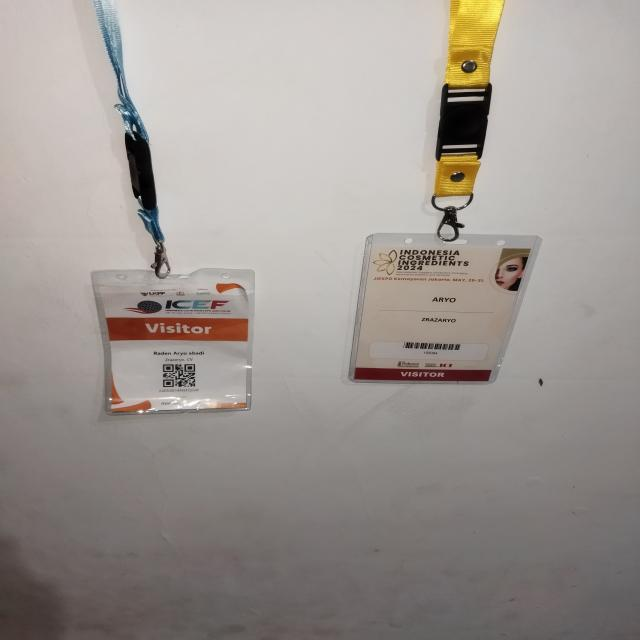ID_card: (344, 232, 542, 384), (90, 267, 255, 416)
